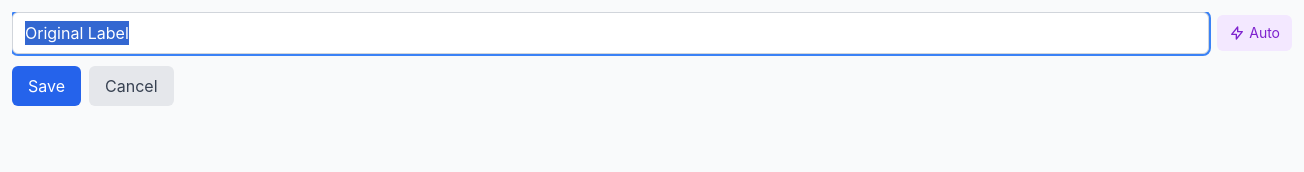
Test: ThemeLabelEditor › Auto Label Generation › should generate automatic label when Auto button is clicked
Click the button "Auto": (1255, 33) x1=1217 y1=15 x2=1292 y2=51
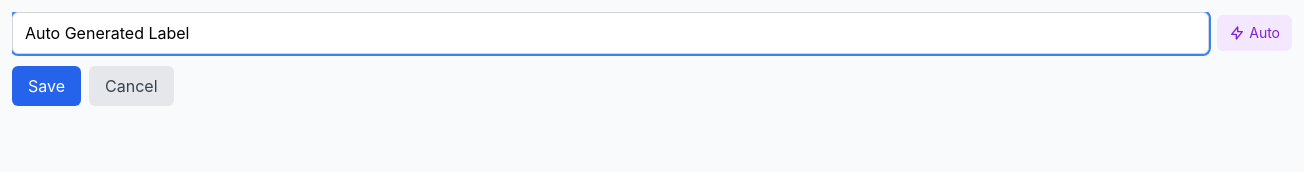
Expected: the field showing "Auto Generated Label" is shown, x1=12 y1=12 x2=1209 y2=54
